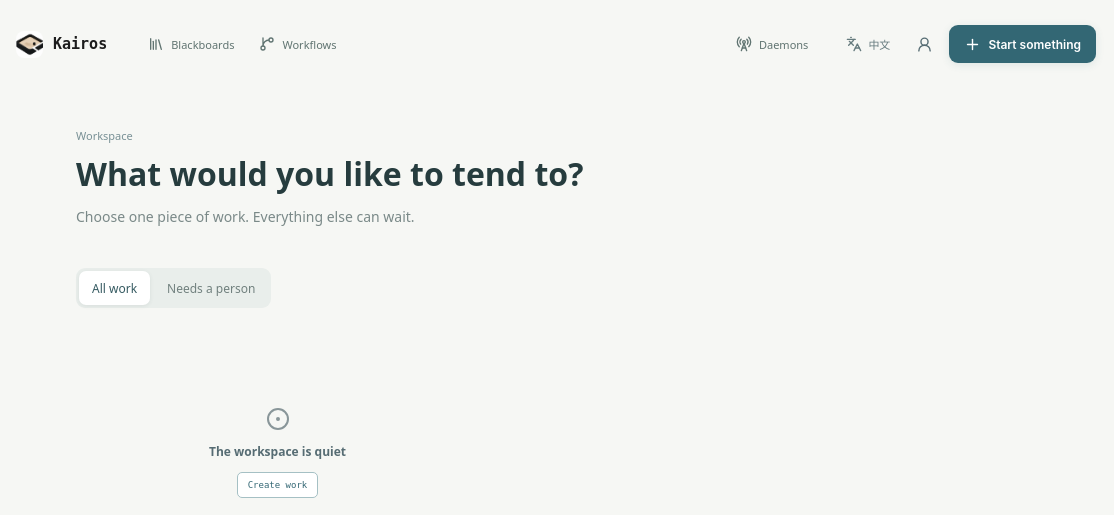
Test case: shows exactly one management entry based on the server capability: real-admin
Click the button named "Authenticated as: real-admin": (924, 44) [907, 27, 941, 61]
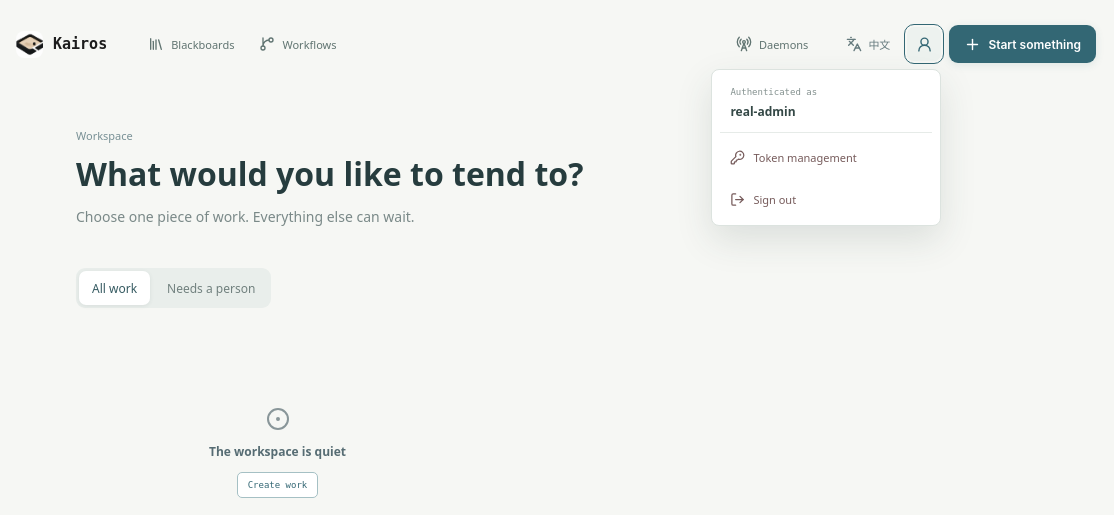
Check: the number of buttons "Token management" is 1, box [720, 139, 932, 175]
